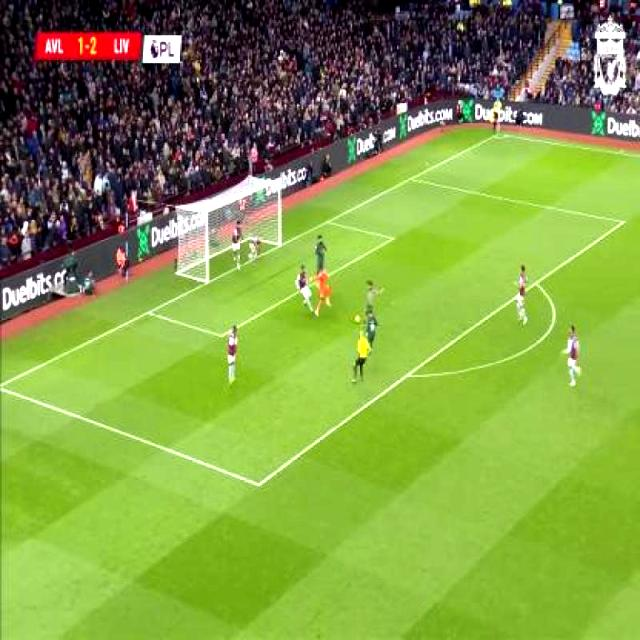bigarea_bottom_inner: (252, 470, 268, 500)
bigarea_top_inner: (616, 208, 632, 240)
bigarea_top_outter: (404, 172, 418, 185)
bottom_arc_area_intersection: (402, 363, 418, 389)
corner: (494, 129, 506, 141)
smallarea_bottom_inner: (217, 326, 230, 346)
smallarea_bottom_outter: (142, 300, 156, 323)
smallarea_top_inner: (388, 228, 402, 249)
smallarea_top_outter: (321, 214, 336, 231)
top_arc_area_intersection: (530, 272, 545, 296)
